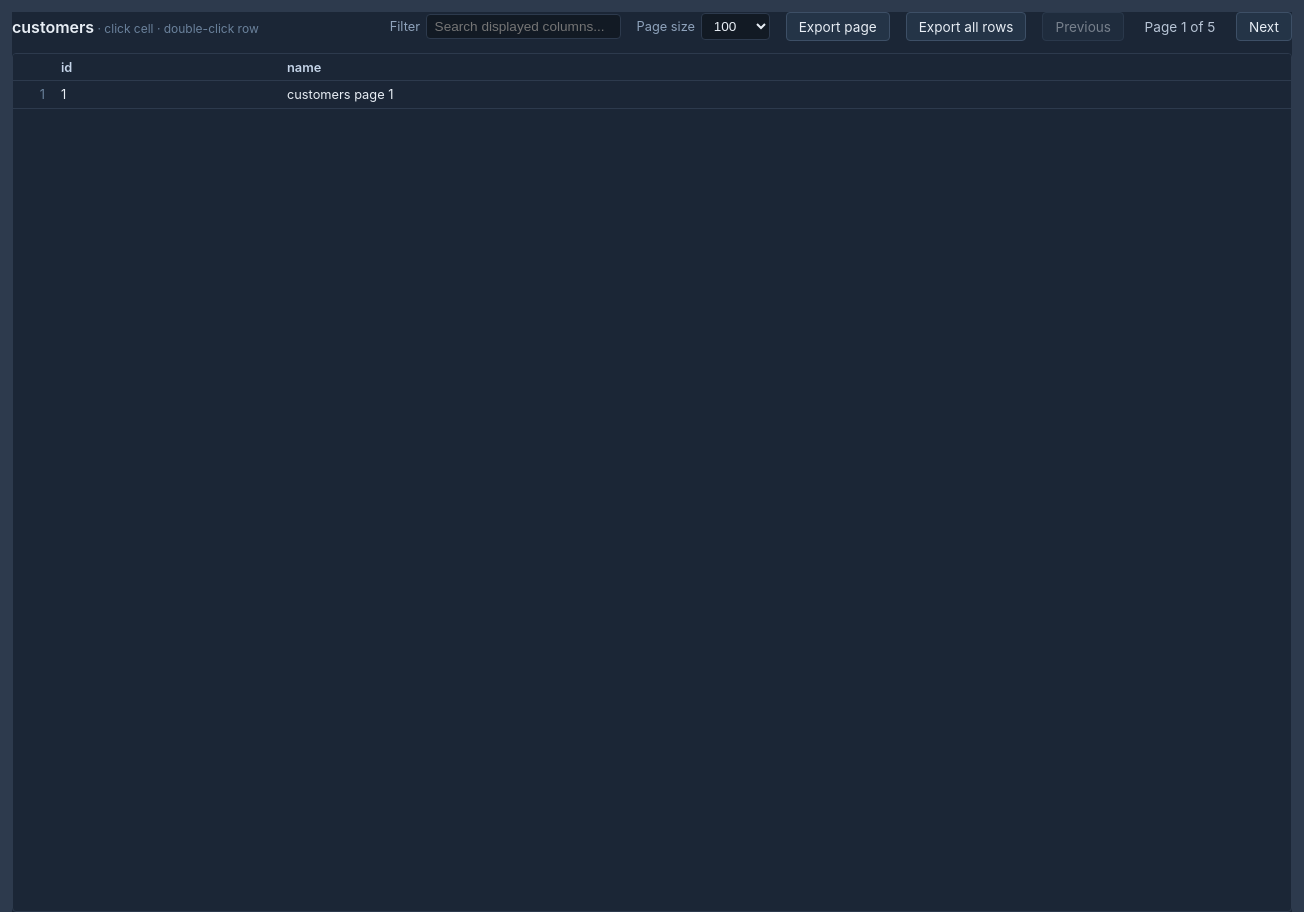
Test: DataGrid › resets to page 1 with a single fetch when sorting
Check: the button "customers page 1" is shown, box [287,87,1283,102]
Click the button "Next" at (1264, 27), box [1236,12,1292,41]
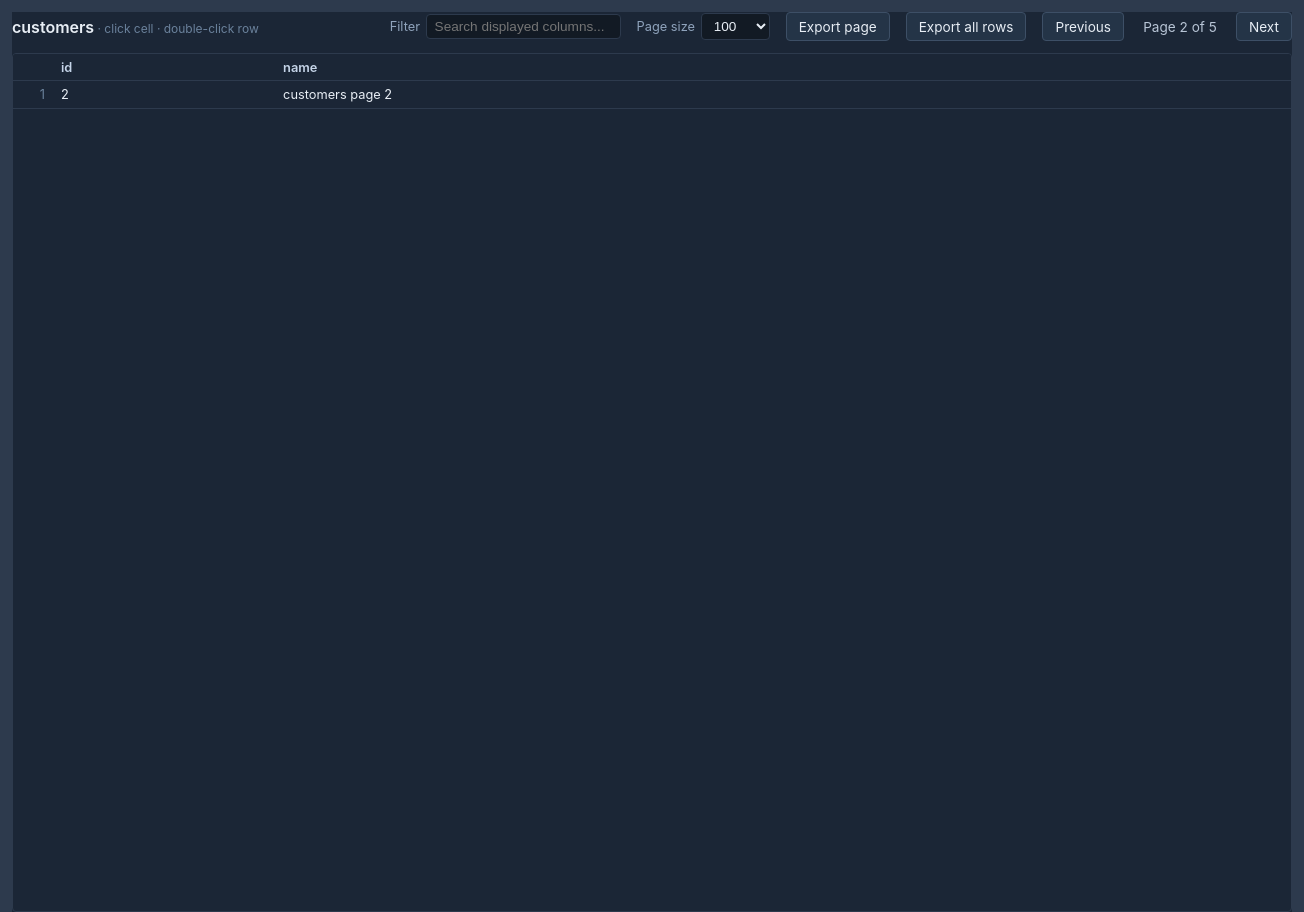
Check: the button "customers page 2" is shown, box [283,87,1283,102]
Click the button "id" at (67, 67), box [61,60,72,75]
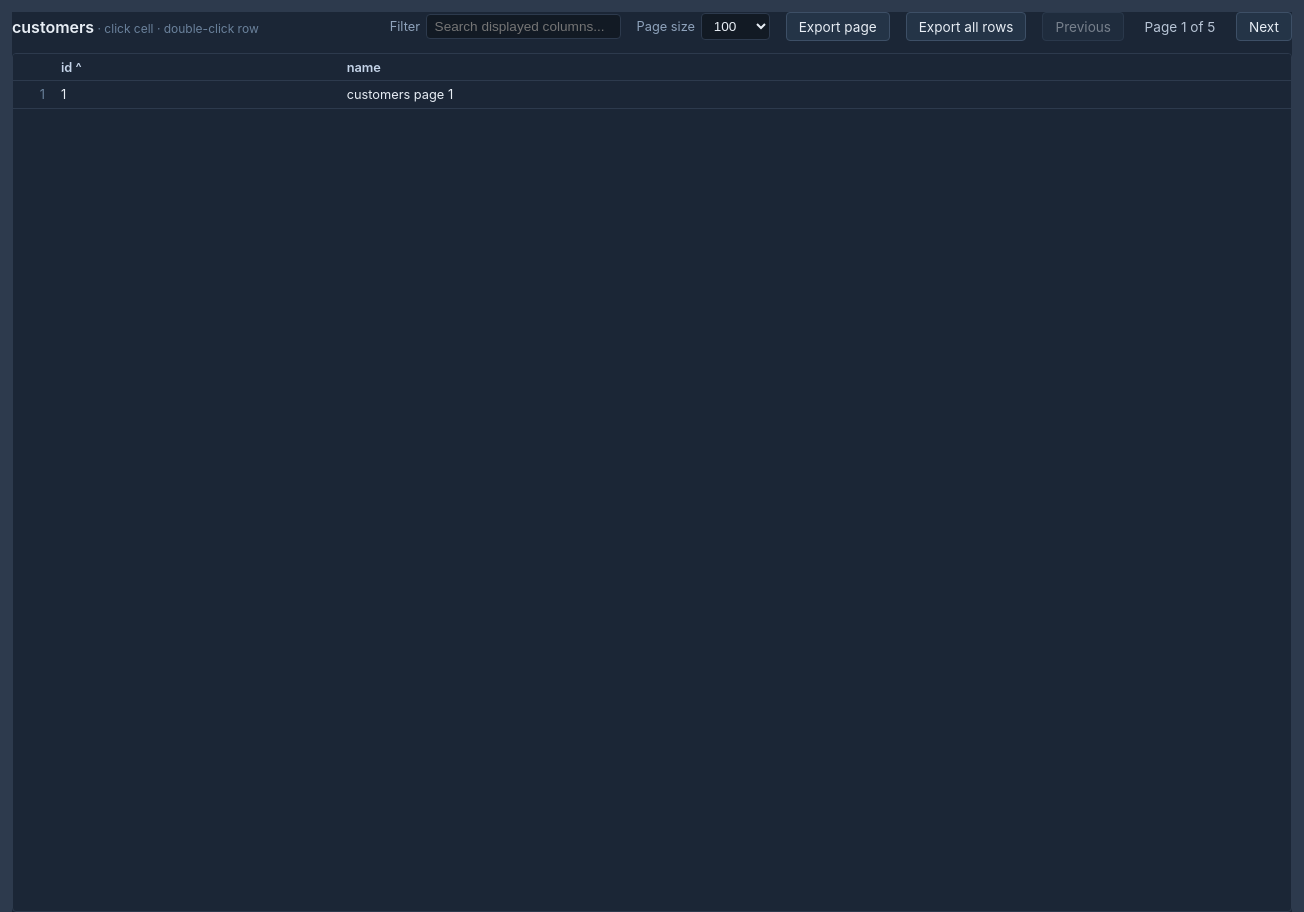
Check: the button "customers page 1" is shown, box [347,87,1283,102]
